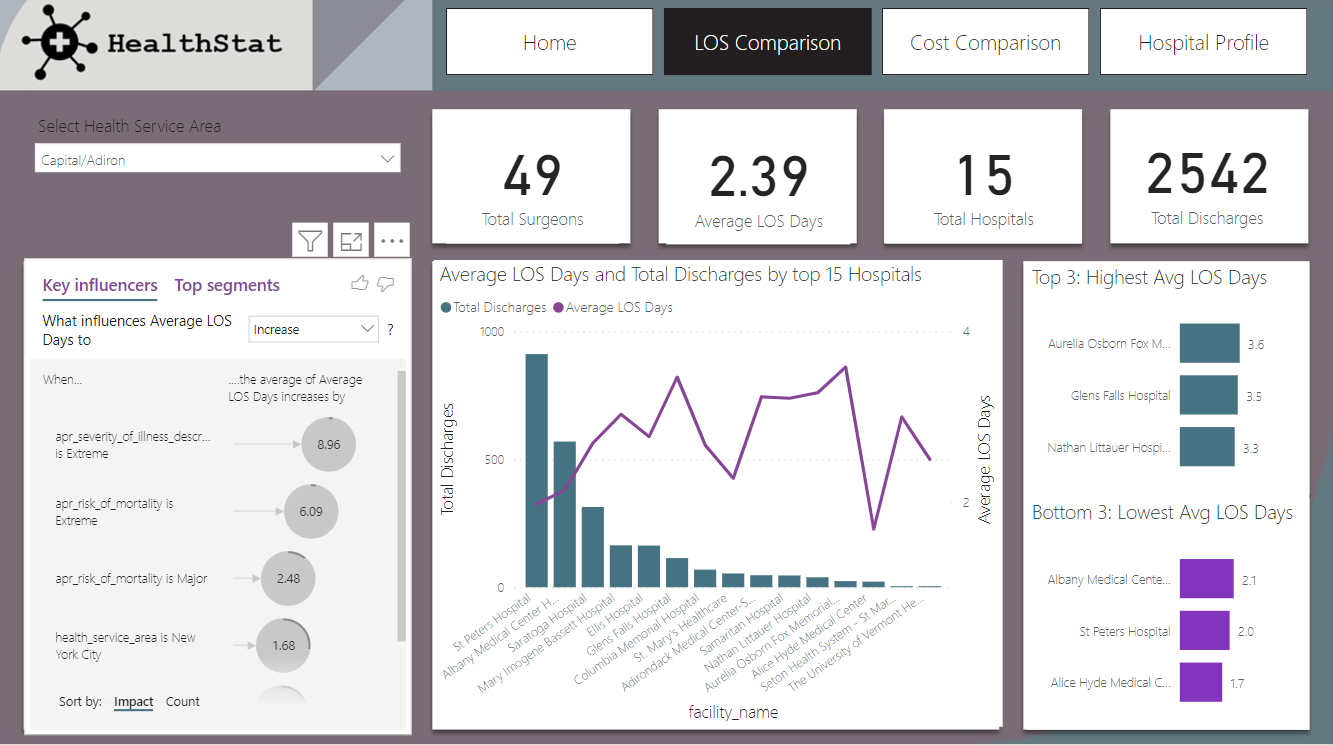

What the dashboard file says about the page in this screenshot:
{"tool":"powerbi","page":{"name":"LOS Comparison","canvas":[1280,720],"ordinal":1},"visuals":[{"type":"lineStackedColumnComboChart","title":"Average LOS Days and Total Discharges by top 15 Hospitals","fields":{"Y":["_Measures.Total Discharges"],"Category":["hospital_discharges.facility_name"],"Y2":["_Measures.Average LOS Days"]},"box":[418.2,255.4,542.6,445.3],"z":0},{"type":"card","fields":{"Values":["_Measures.Total Surgeons"]},"box":[429.3,114.9,164.4,124.5],"z":1000},{"type":"slicer","fields":{"Values":["hospital_discharges.health_service_area"]},"box":[27.1,110.1,368.7,83],"z":2000},{"type":"keyDriversVisual","fields":{"ExplainBy":["hospital_discharges.apr_risk_of_mortality","hospital_discharges.apr_severity_of_illness_description","hospital_discharges.ccs_diagnosis_description","hospital_discharges.patient_disposition","hospital_discharges.gender","hospital_discharges.Age Bins","surgical_program_size_summary.Surgical Program Size","hospital_discharges.health_service_area"],"Target":["_Measures.Average LOS Days"]},"box":[27.4,253.9,369.1,454.2],"z":3000},{"type":"clusteredBarChart","title":"Top 3: Highest Avg LOS Days","fields":{"Category":["hospital_discharges.facility_name"],"Y":["_Measures.Average LOS Days"]},"box":[982.7,257,270.1,220.5],"z":4000},{"type":"clusteredBarChart","title":"Bottom 3: Lowest Avg LOS Days","fields":{"Category":["hospital_discharges.facility_name"],"Y":["_Measures.Average LOS Days"]},"box":[982.7,481.9,270.1,220.5],"z":5000},{"type":"card","fields":{"Values":["_Measures.Average LOS Days"]},"box":[639.6,115.4,175.2,124.1],"z":6000},{"type":"card","fields":{"Values":["_Measures.Total Hospitals"]},"box":[849.1,114.9,186.7,124.5],"z":7000},{"type":"card","fields":{"Values":["_Measures.Total Discharges"]},"box":[1067.4,112.4,175.2,124.1],"z":8000},{"type":"pageNavigator","box":[430,14.1,823.7,64.6],"z":8001}]}

Visuals, with their boxes in screenshot pixels (x1, y1, x2, y2), scaled from the page's 1280x720 canvas onto the 1333x745 screenshot:
"Average LOS Days and Total Discharges by top 15 Hospitals" lineStackedColumnComboChart: 436, 264, 1001, 725
card - _Measures.Total Surgeons: 447, 119, 618, 248
slicer - hospital_discharges.health_service_area: 28, 114, 412, 200
keyDriversVisual - hospital_discharges.apr_risk_of_mortality x hospital_discharges.apr_severity_of_illness_description: 29, 263, 413, 733
"Top 3: Highest Avg LOS Days" clusteredBarChart: 1023, 266, 1305, 494
"Bottom 3: Lowest Avg LOS Days" clusteredBarChart: 1023, 499, 1305, 727
card - _Measures.Average LOS Days: 666, 119, 849, 248
card - _Measures.Total Hospitals: 884, 119, 1079, 248
card - _Measures.Total Discharges: 1112, 116, 1294, 245
pageNavigator: 448, 15, 1306, 81
